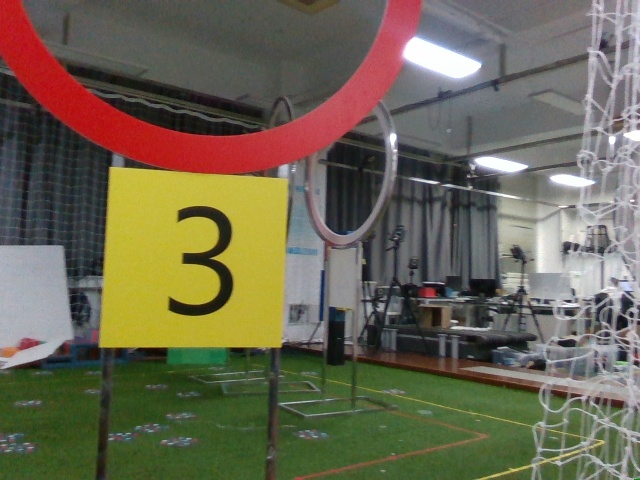target: (96, 176, 283, 346)
